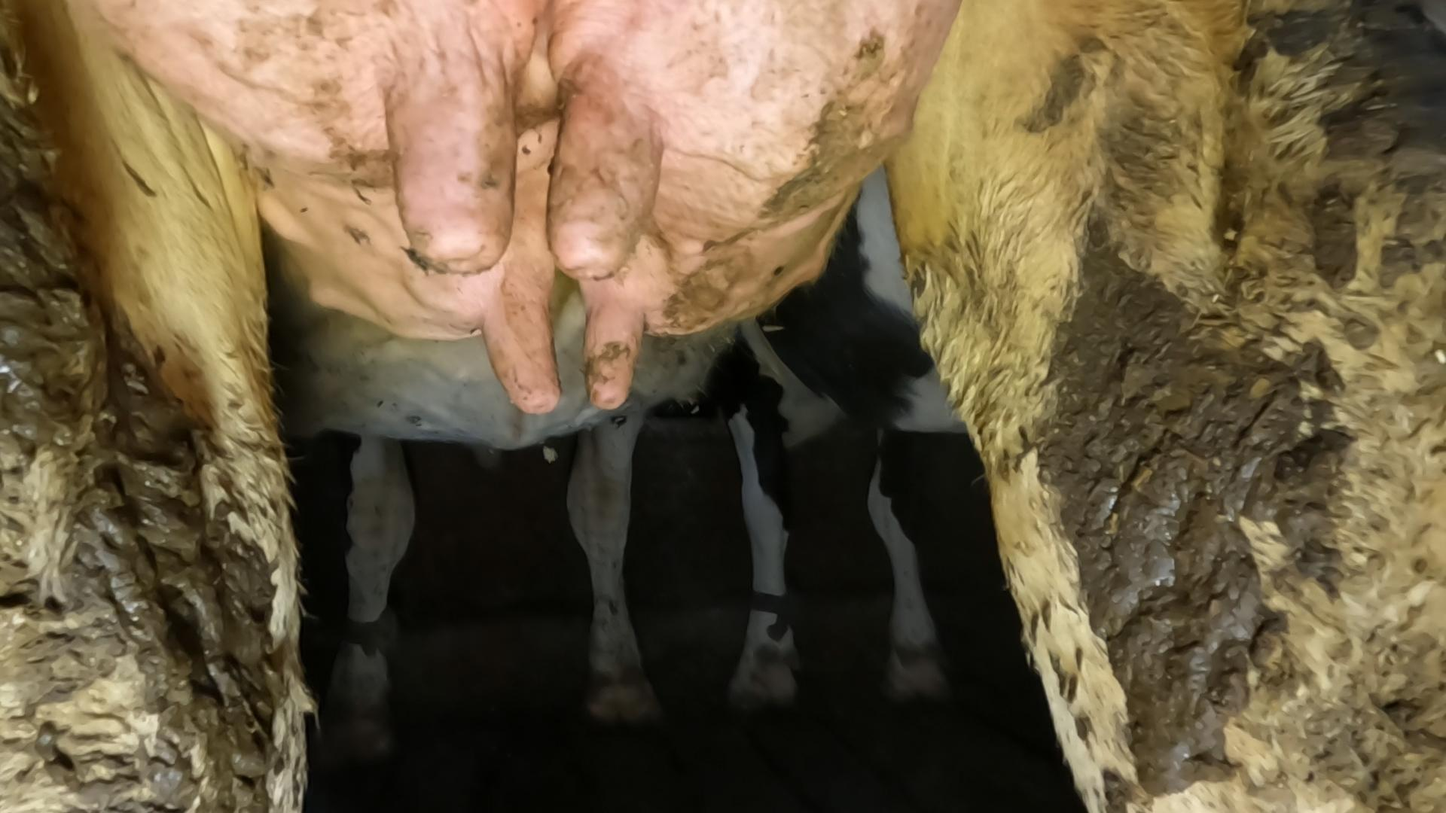Zitze: (371, 81, 517, 280), (537, 106, 670, 283), (570, 291, 671, 422), (494, 274, 565, 442)
